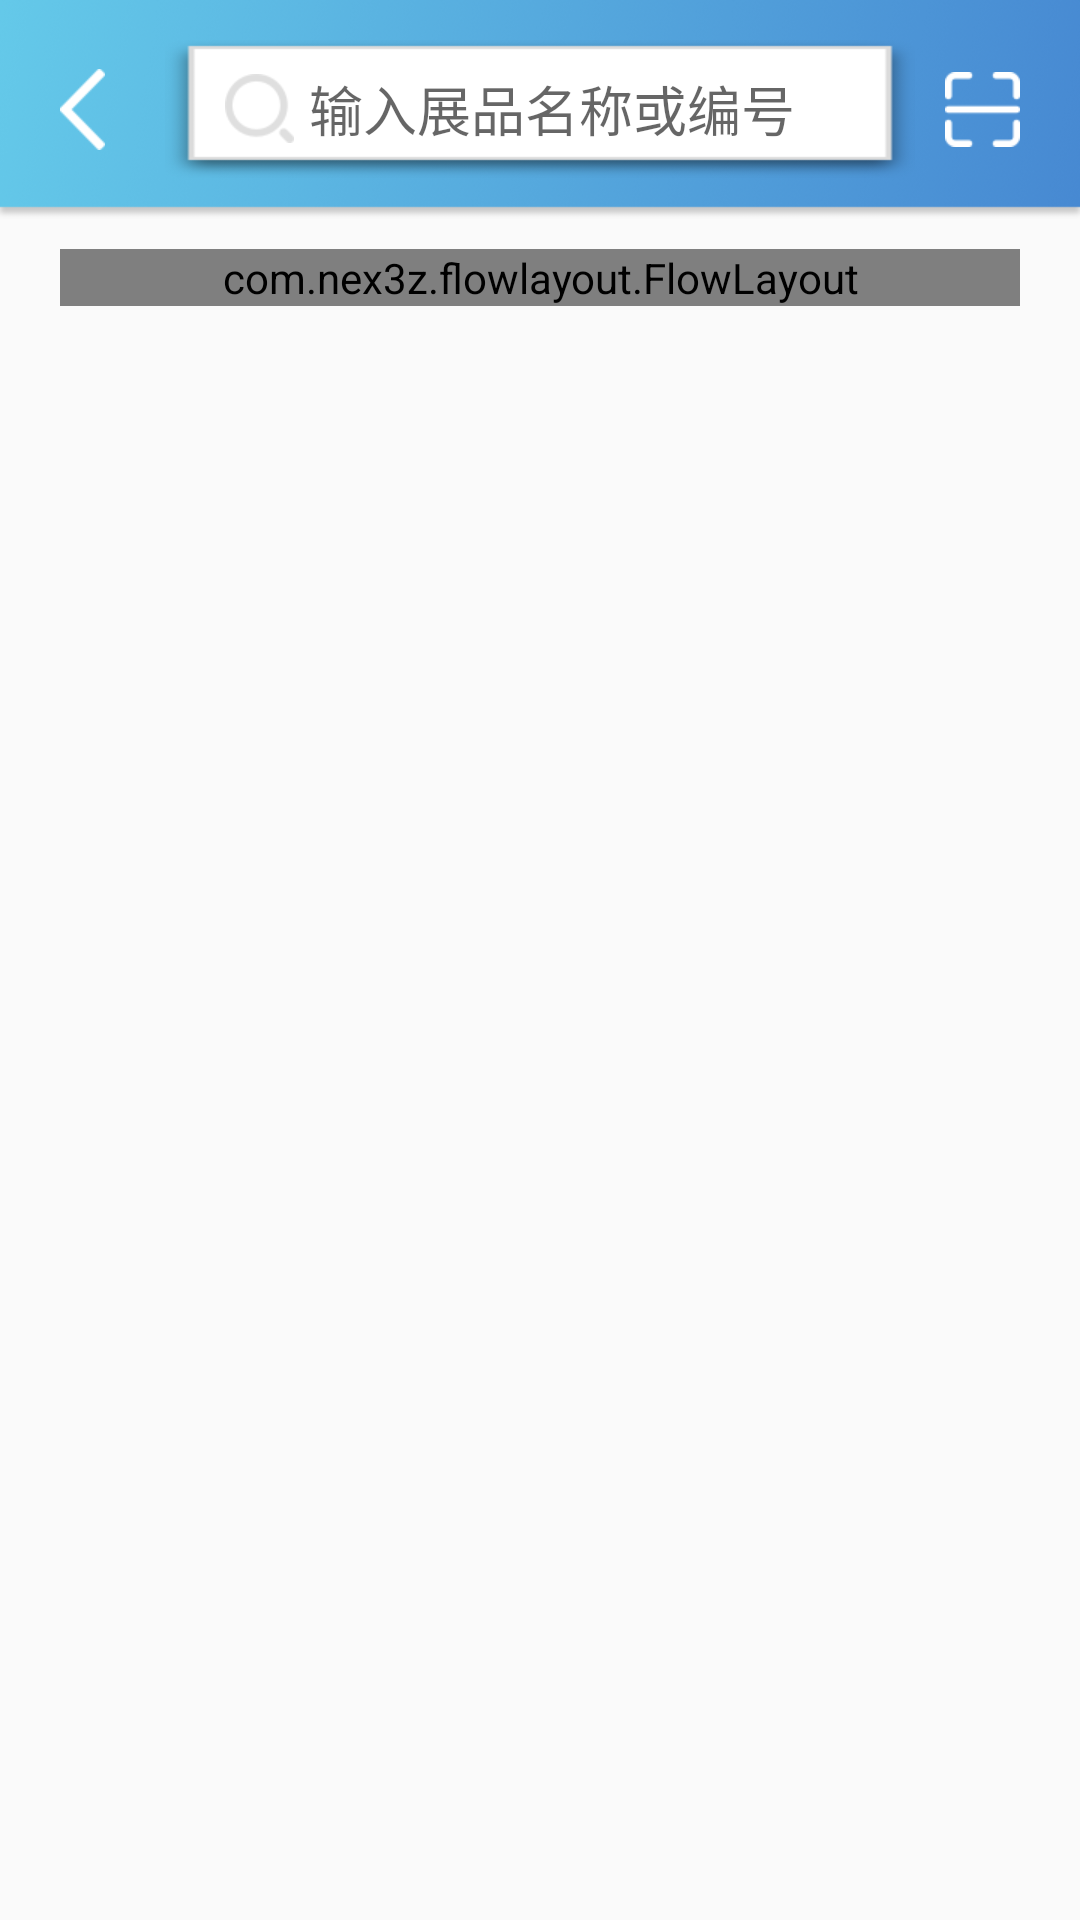

Point at icon controls on the screen. Image size 1080x1920, points as point (x, y).
back: point (82, 109)
